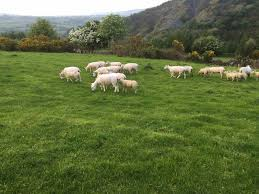sheep: (88, 74, 127, 95), (200, 66, 227, 85), (57, 67, 83, 83), (164, 64, 188, 81), (118, 79, 142, 95), (84, 60, 107, 75), (121, 62, 143, 76), (236, 66, 254, 83), (93, 67, 120, 78), (181, 64, 196, 79), (105, 59, 124, 70), (225, 72, 237, 86)
